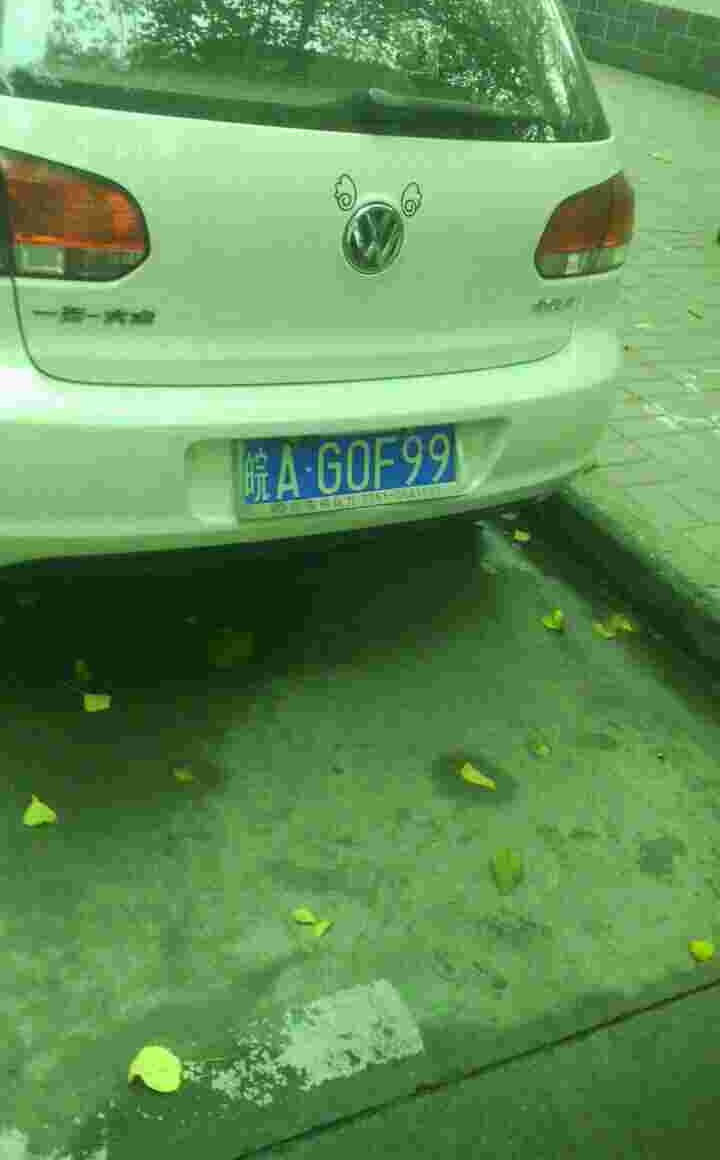license_plate: (248, 432, 462, 505)
